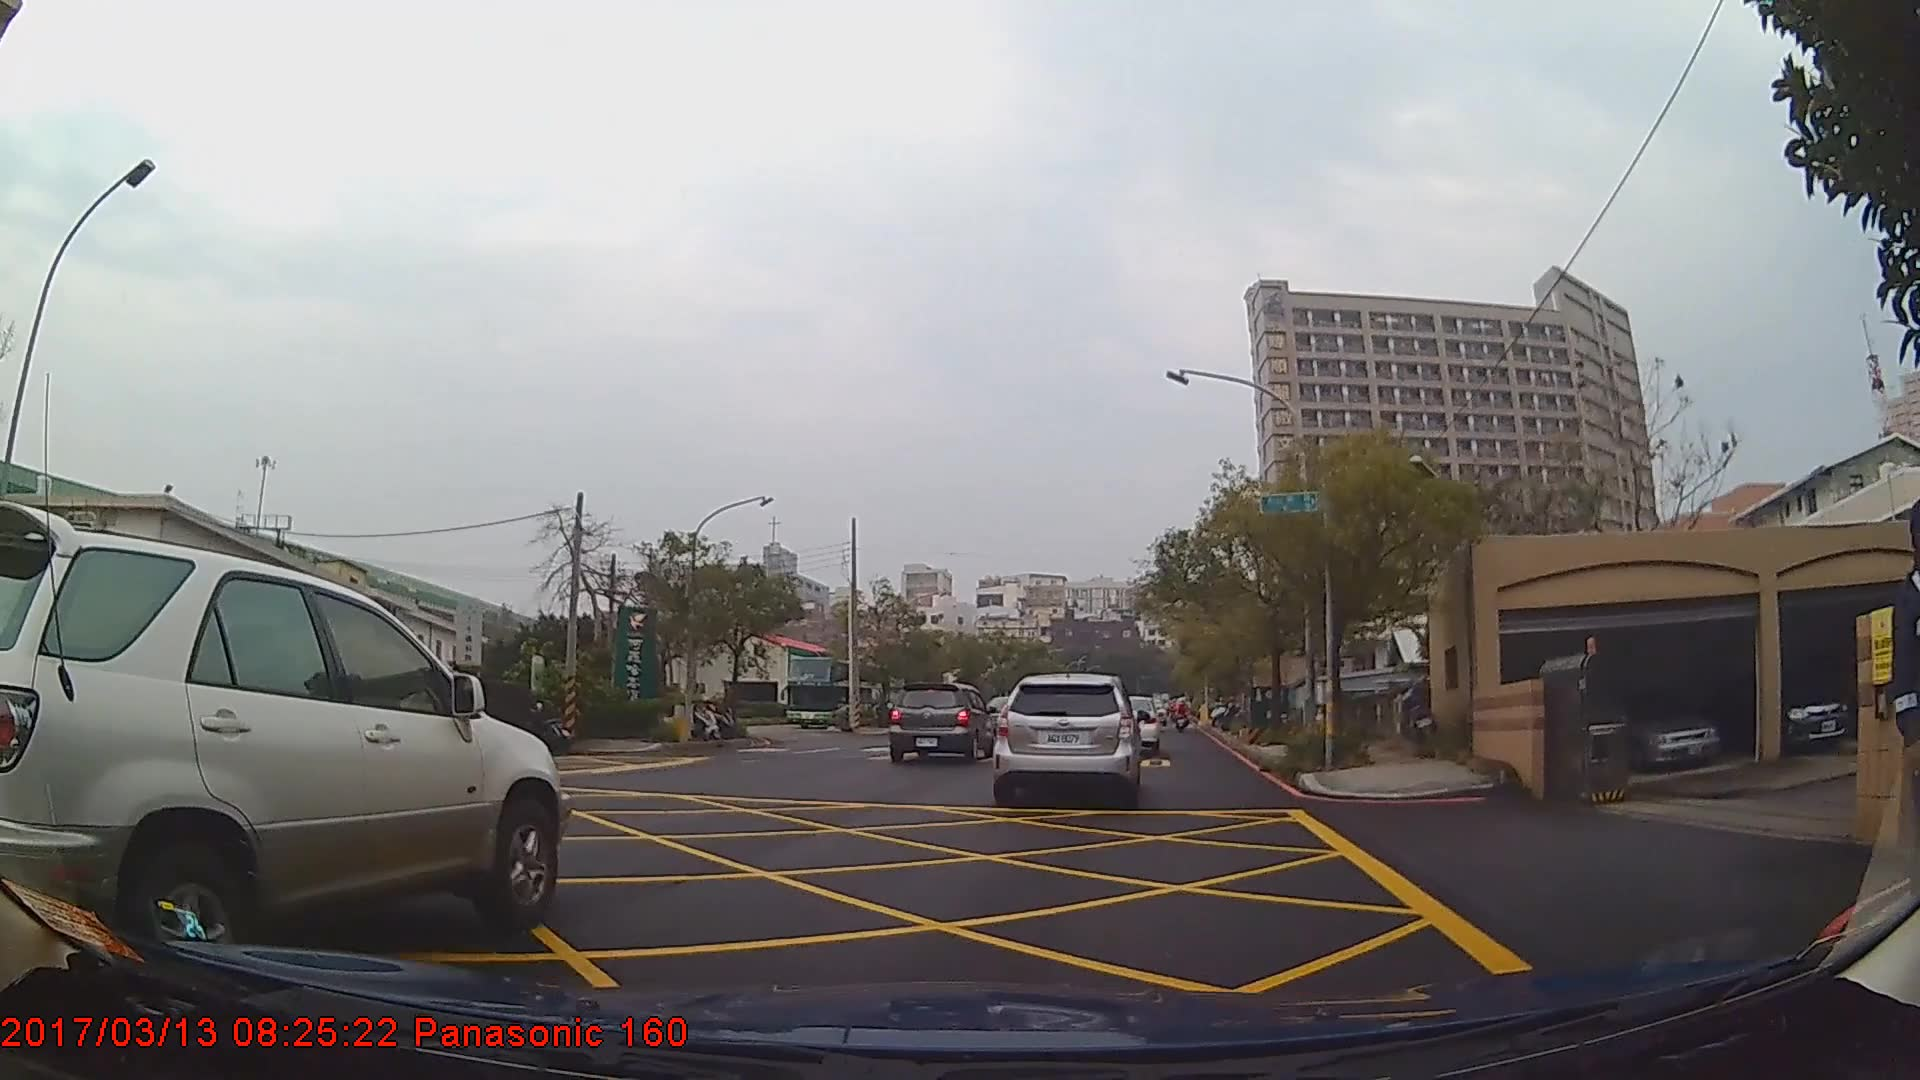pedestrian: (1892, 494, 1920, 925)
vehicle: (0, 501, 568, 985), (991, 673, 1145, 807), (1605, 685, 1729, 768), (886, 681, 998, 760), (784, 659, 888, 735)
